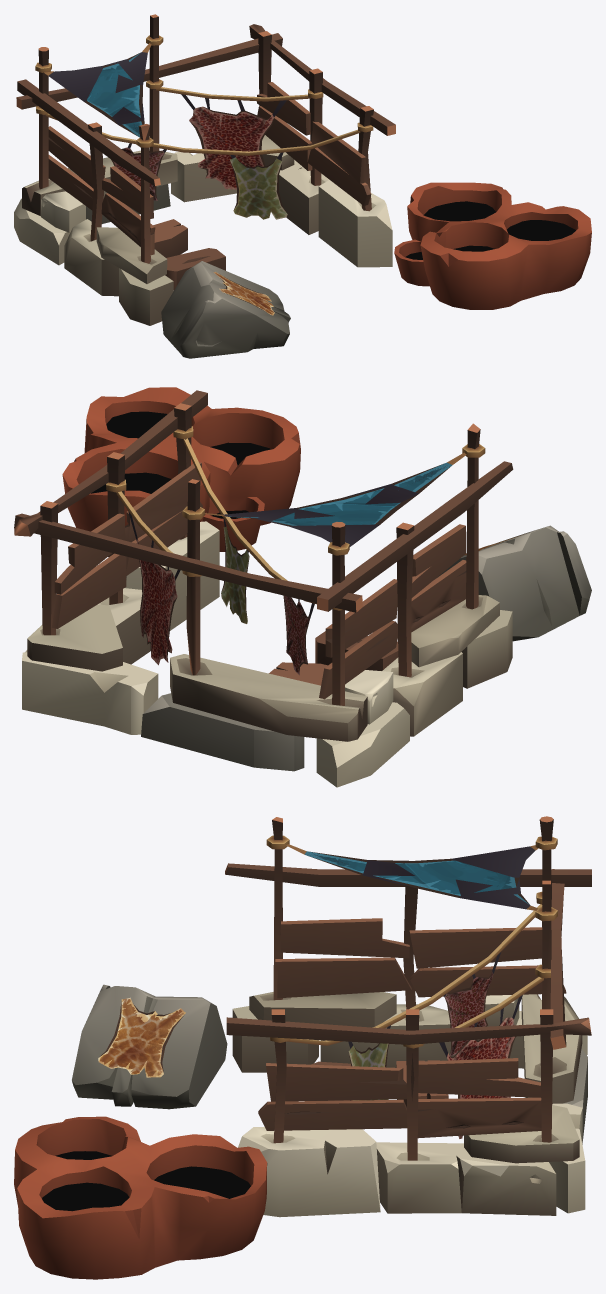
Rendered from Tannery_1A.fbx.
3 views of the same model, one above another, from view 1: azimuth 30°, elevation 25°; view 2: azimuth 150°, elevation 25°; view 3: azimuth 270°, elevation 25° (orthographic). The views are drawn at different scales.
Visible parts, largest first — view 1: Tannery_1A; view 2: Tannery_1A; view 3: Tannery_1A.
Boxes of the visible parts, <box> form: Tannery_1A: <box>14,14,591,358</box>; Tannery_1A: <box>14,387,591,787</box>; Tannery_1A: <box>14,816,591,1279</box>.
Size of the model in its own units: 797 by 375 by 775.
